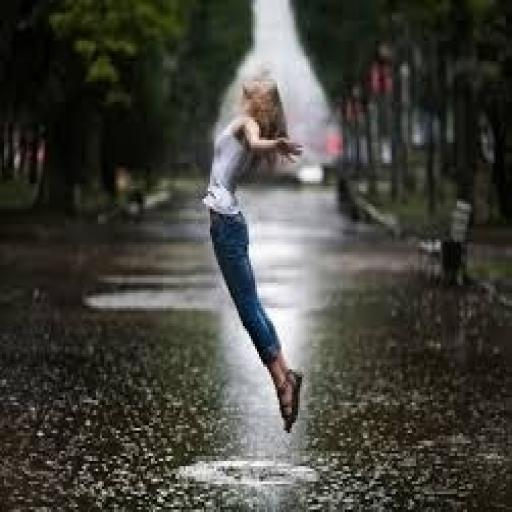dancing: (200, 71, 308, 436)
